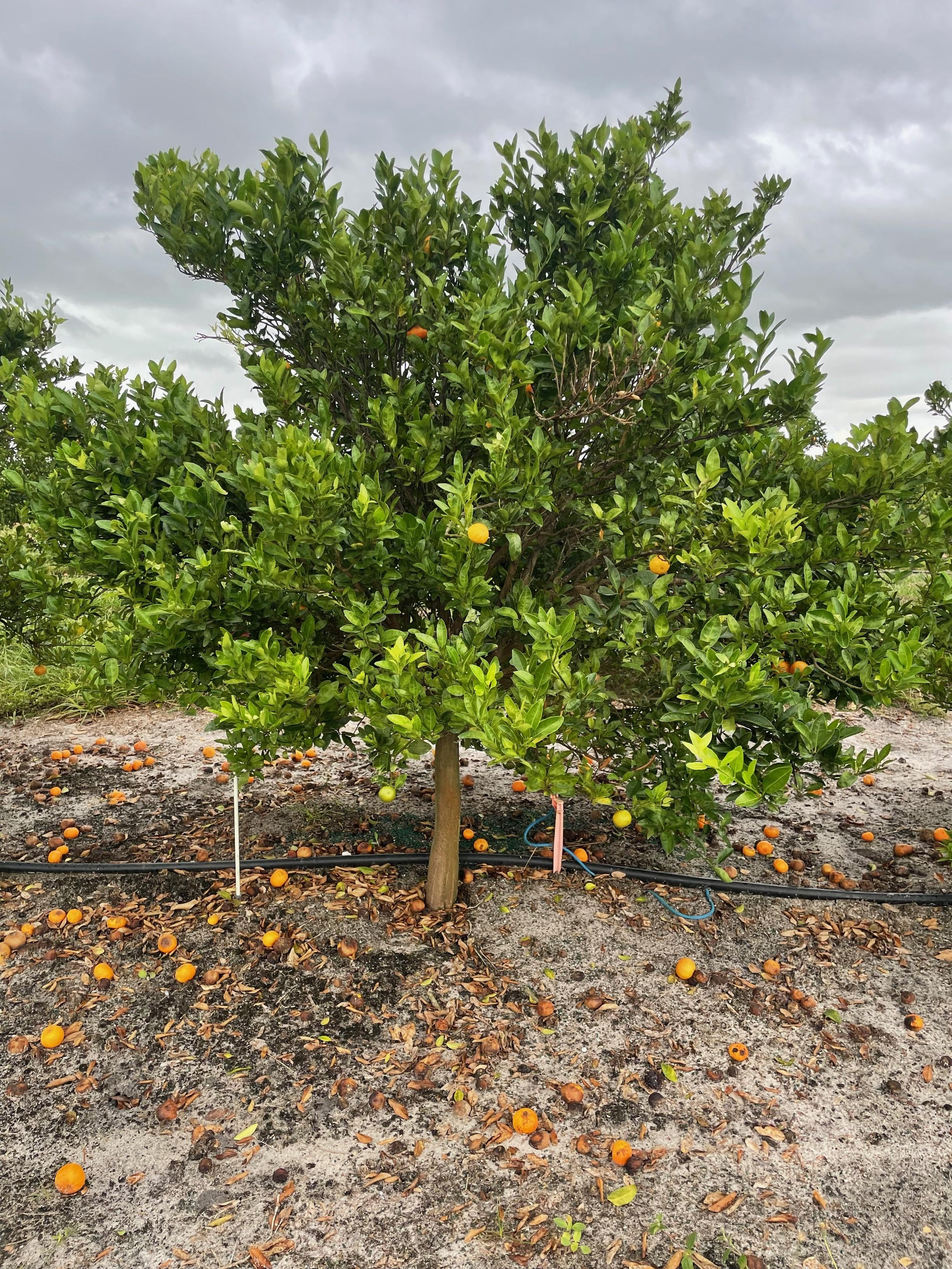fruit_on_ground: (417, 231, 448, 261), (404, 318, 430, 343), (467, 521, 491, 545), (769, 656, 795, 678), (648, 552, 672, 575), (789, 657, 812, 680), (611, 809, 633, 830), (378, 785, 397, 804), (577, 761, 593, 777), (33, 663, 48, 677)
fruit_on_tree: (53, 1161, 87, 1195), (511, 1105, 539, 1135), (38, 1022, 65, 1049), (609, 1138, 634, 1165), (4, 1031, 32, 1055), (155, 1098, 180, 1124), (560, 1080, 584, 1105), (674, 956, 698, 980), (154, 930, 179, 953), (336, 935, 360, 958), (726, 1040, 750, 1063), (92, 960, 115, 983), (333, 1076, 359, 1095), (174, 962, 196, 983), (267, 866, 289, 887), (528, 1130, 551, 1150), (200, 967, 222, 987), (260, 928, 282, 948), (761, 956, 782, 976), (906, 1012, 926, 1032), (535, 998, 556, 1017), (624, 1156, 644, 1175), (46, 846, 67, 864), (4, 929, 25, 947), (719, 863, 739, 881), (369, 1090, 387, 1110), (105, 789, 128, 804), (692, 967, 710, 986), (47, 906, 65, 925), (66, 906, 84, 925), (106, 914, 127, 930), (408, 896, 426, 914), (0, 941, 14, 964), (694, 813, 712, 830), (932, 825, 950, 842), (755, 840, 773, 857), (772, 856, 789, 874), (893, 842, 914, 856), (572, 845, 589, 862), (52, 842, 70, 858), (860, 771, 878, 787), (509, 778, 527, 794), (763, 822, 781, 838), (354, 840, 373, 855), (800, 994, 819, 1009), (295, 845, 314, 860), (459, 772, 476, 788), (828, 869, 846, 884), (61, 824, 79, 839), (201, 744, 217, 760), (19, 920, 36, 935), (790, 856, 807, 871), (473, 838, 490, 853), (537, 844, 555, 858), (807, 783, 825, 797), (839, 877, 858, 890), (59, 816, 78, 829), (790, 986, 806, 1001), (459, 867, 474, 883), (740, 843, 756, 858), (821, 861, 836, 876), (48, 835, 65, 848), (588, 807, 603, 821), (461, 826, 476, 840), (133, 739, 149, 752), (594, 837, 608, 851), (24, 832, 38, 846), (32, 791, 47, 804), (860, 829, 875, 842), (49, 784, 64, 797), (582, 753, 596, 766), (594, 831, 608, 844), (143, 754, 157, 767), (116, 741, 131, 753), (49, 749, 64, 761), (220, 760, 233, 773), (290, 750, 304, 762), (72, 743, 85, 755), (94, 734, 108, 745), (131, 759, 143, 771), (121, 762, 134, 773), (245, 773, 256, 785), (60, 748, 71, 760), (305, 746, 317, 757), (300, 758, 312, 769), (291, 783, 303, 793)
